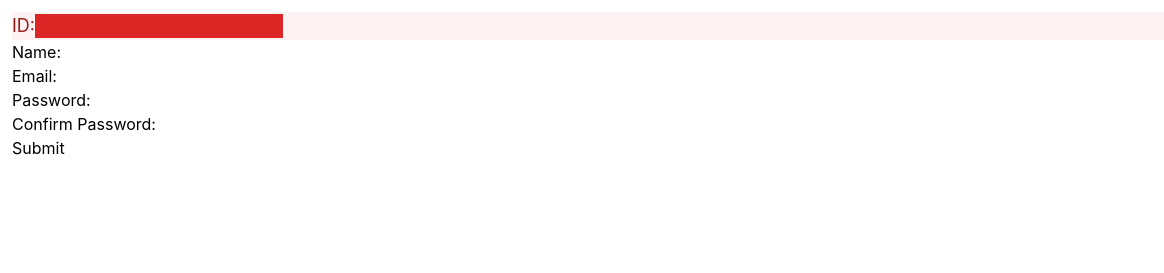
Test: SignupForm › validates ID field
Type "abc" into the field labelled "ID:" at point(159, 26), box [35,14,283,38]
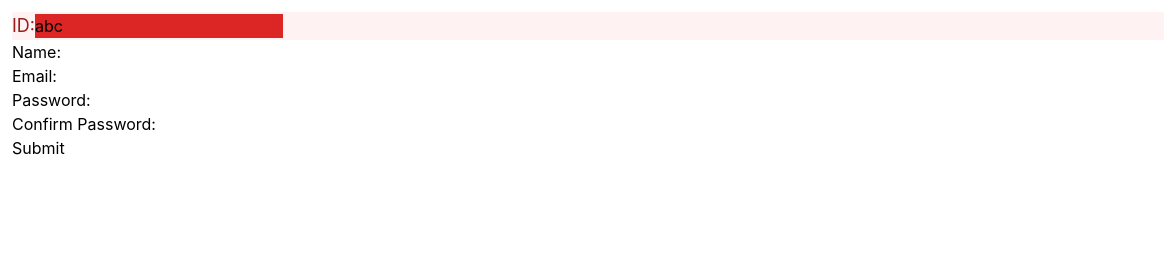
Click the button "Submit" at point(38, 148), box [12,136,65,160]
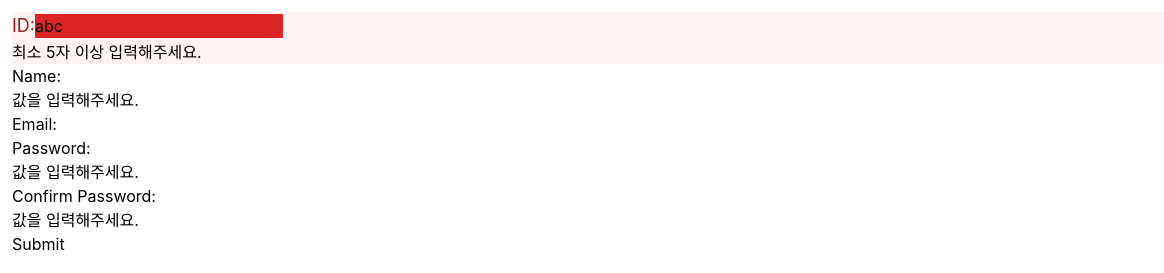
Now the text "최소 5자 이상 입력해주세요." is shown, box [12,42,202,62]
Replace the text in the field labelled "ID:" with "abcdefghijklmnop" at point(159, 26), box [35,14,283,38]
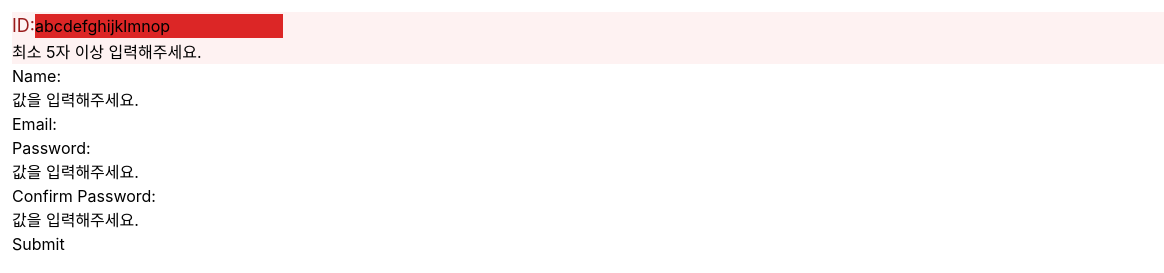
Click the button "Submit" at point(38, 244), box [12,232,65,256]
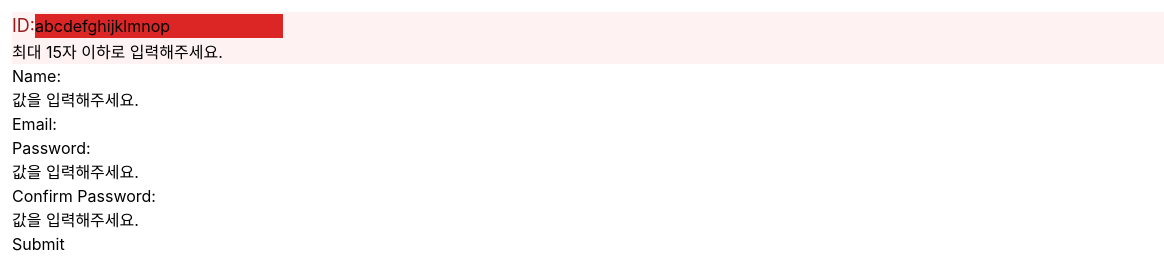
Now the text "최대 15자 이하로 입력해주세요." is shown, box [12,42,223,62]
